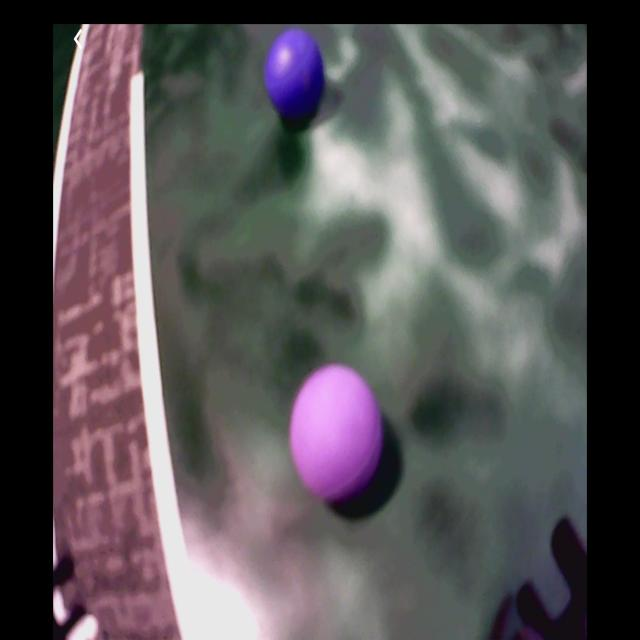ball: (290, 366, 386, 505), (265, 30, 326, 125)
